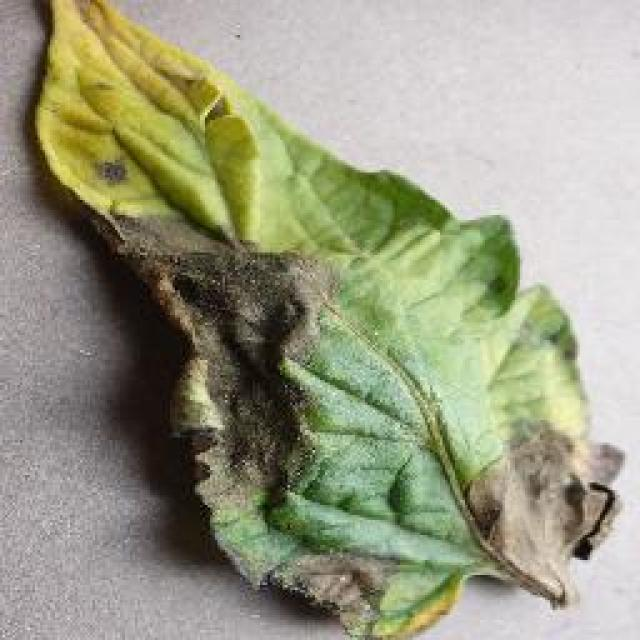Tomato___Late_blight: (33, 0, 631, 638)
